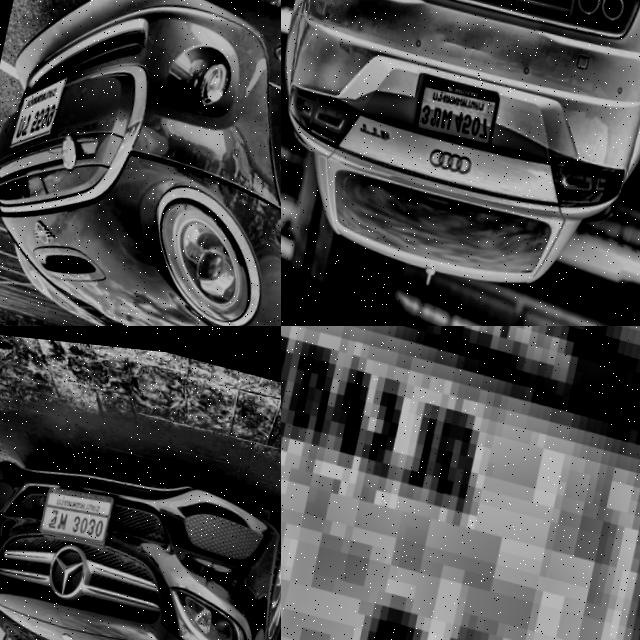license-plate: (281, 326, 640, 640), (415, 66, 504, 144), (8, 56, 73, 159), (39, 475, 116, 547)
